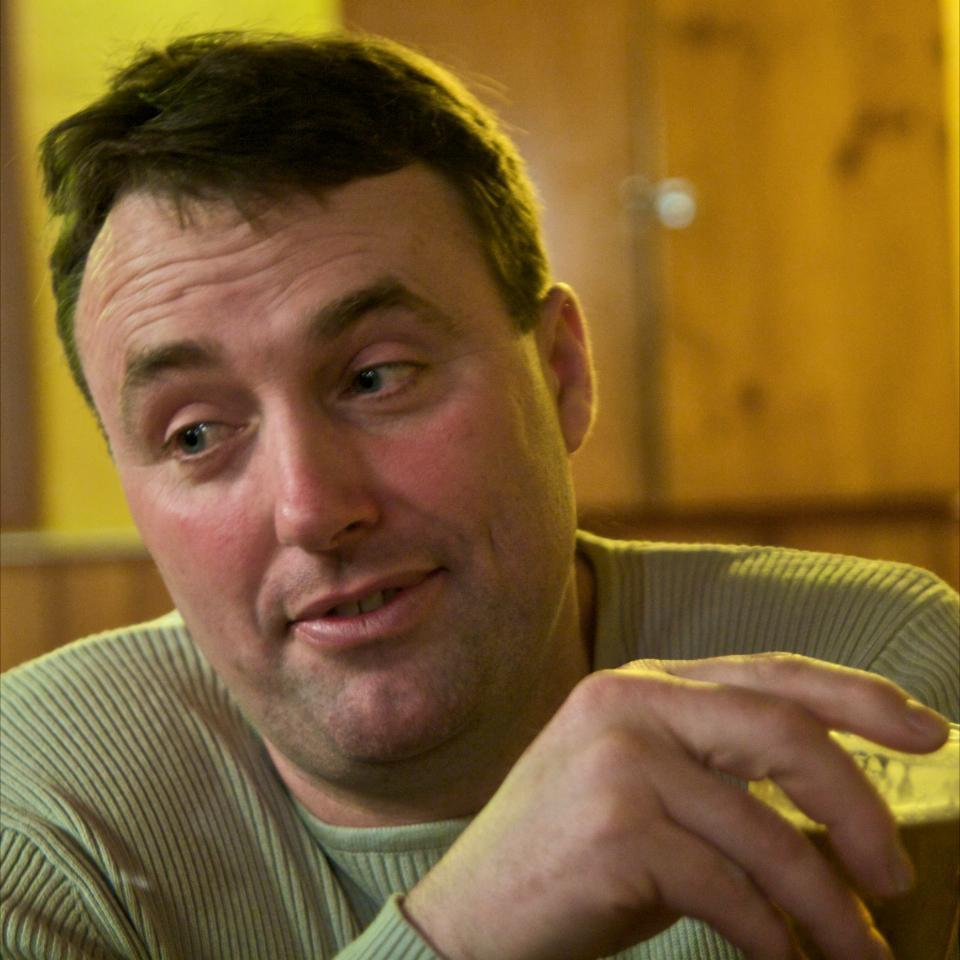Eyebags: (328, 364, 446, 440), (173, 422, 259, 485)
